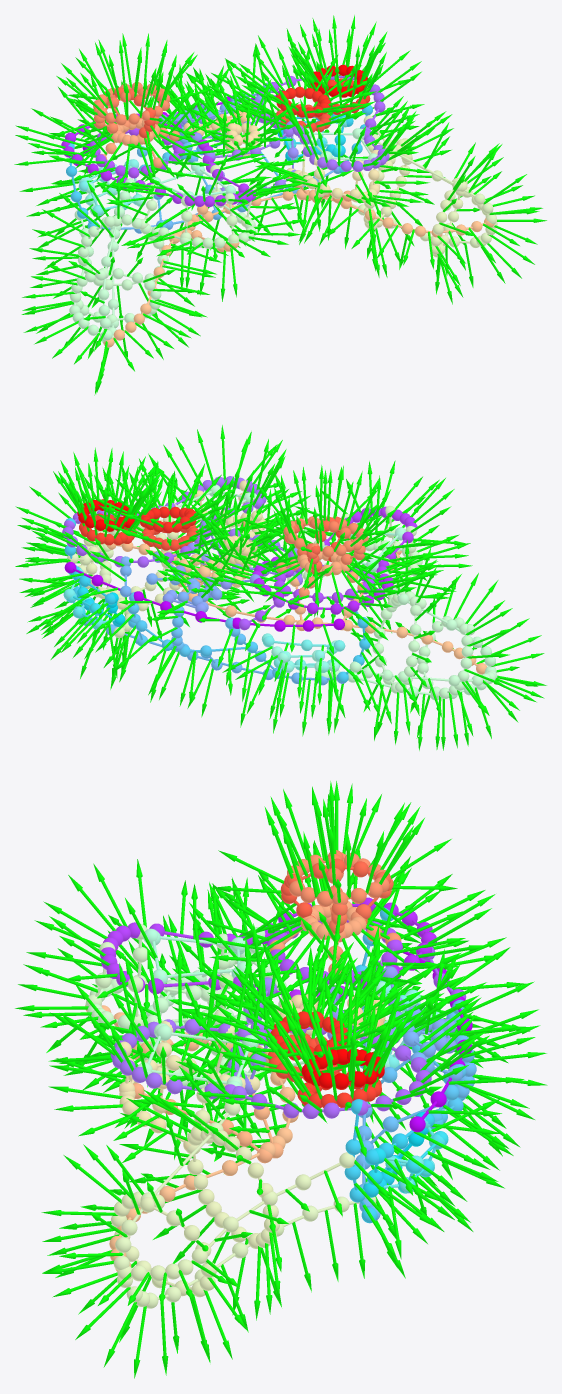
File: author2_gamepad.gltf
3 views of the same model, one above another, from view 1: azimuth 30°, elevation 25°; view 2: azimuth 150°, elevation 25°; view 3: azimuth 270°, elevation 25° (orthographic). The views are drawn at different scales.
Size of the model in its own units: 1.01 by 0.5506 by 0.6597.
